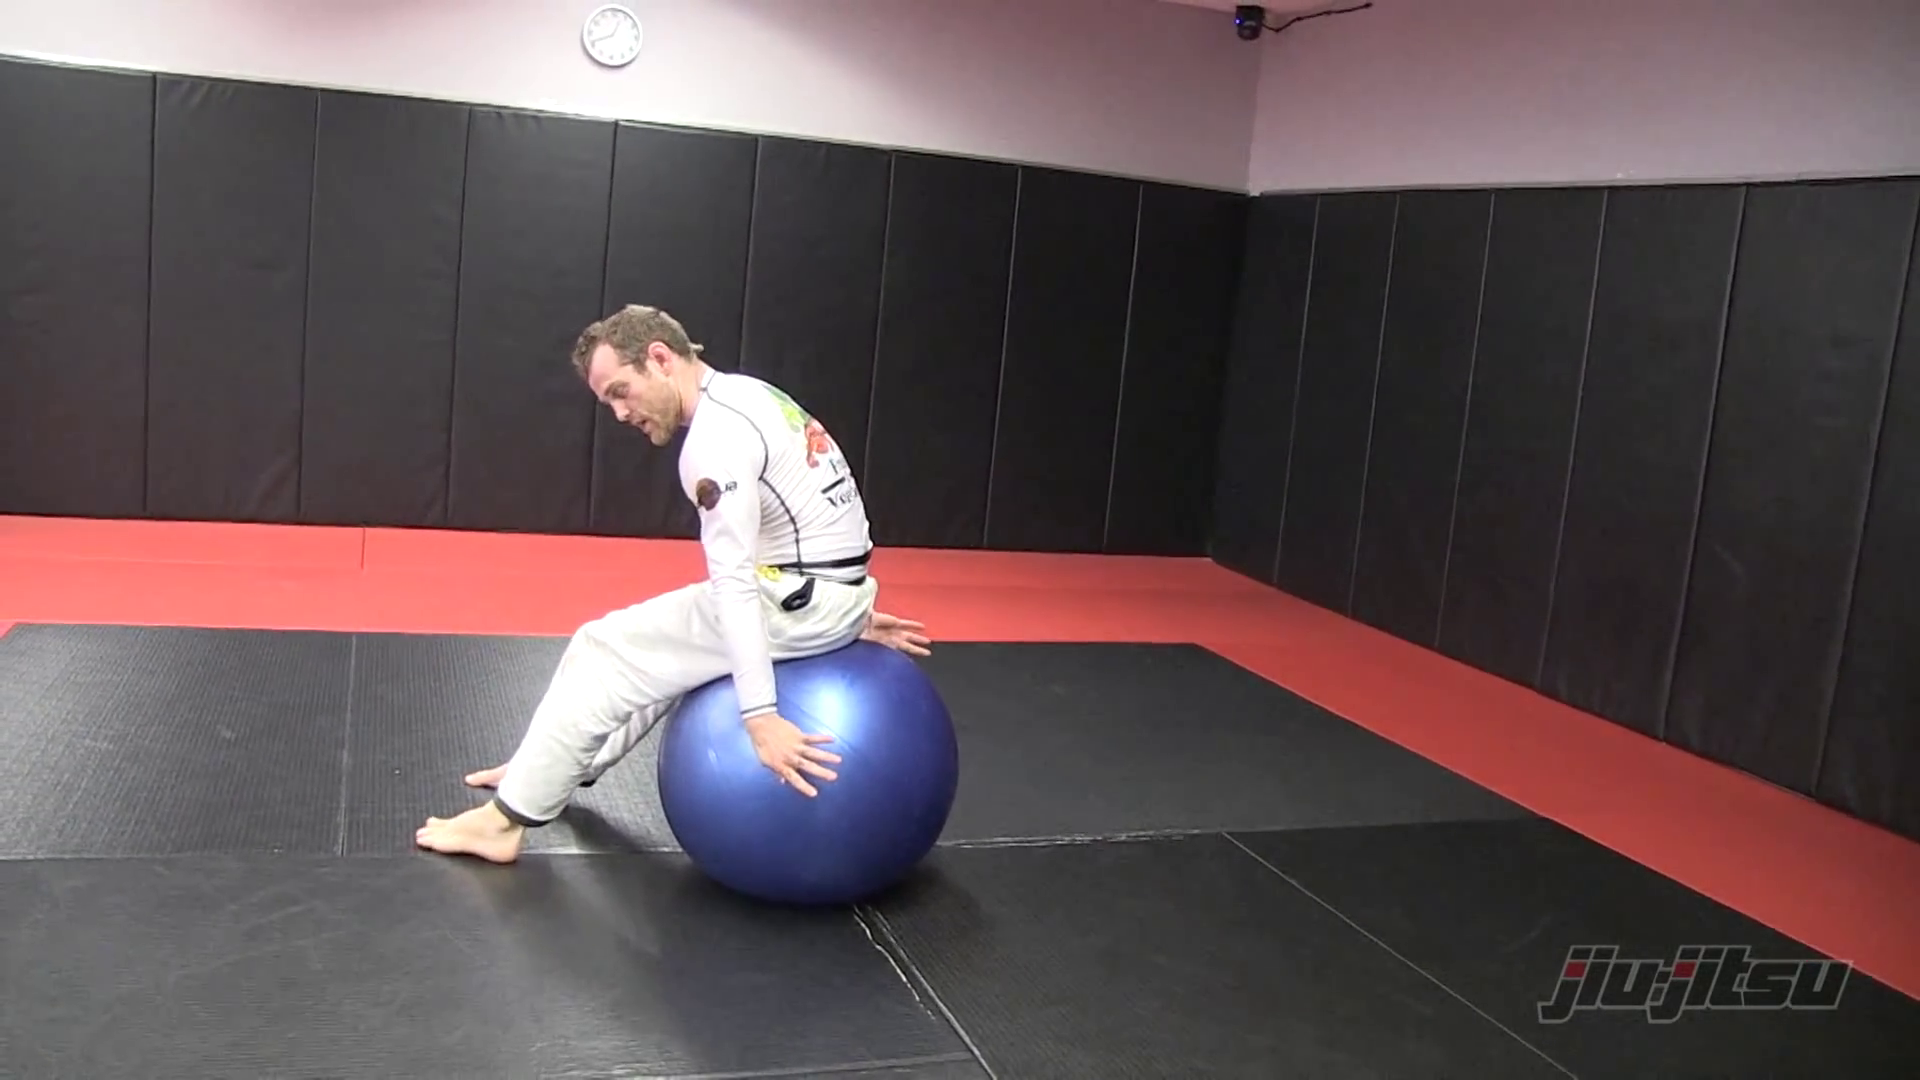yogaball: (651, 632, 965, 924)
